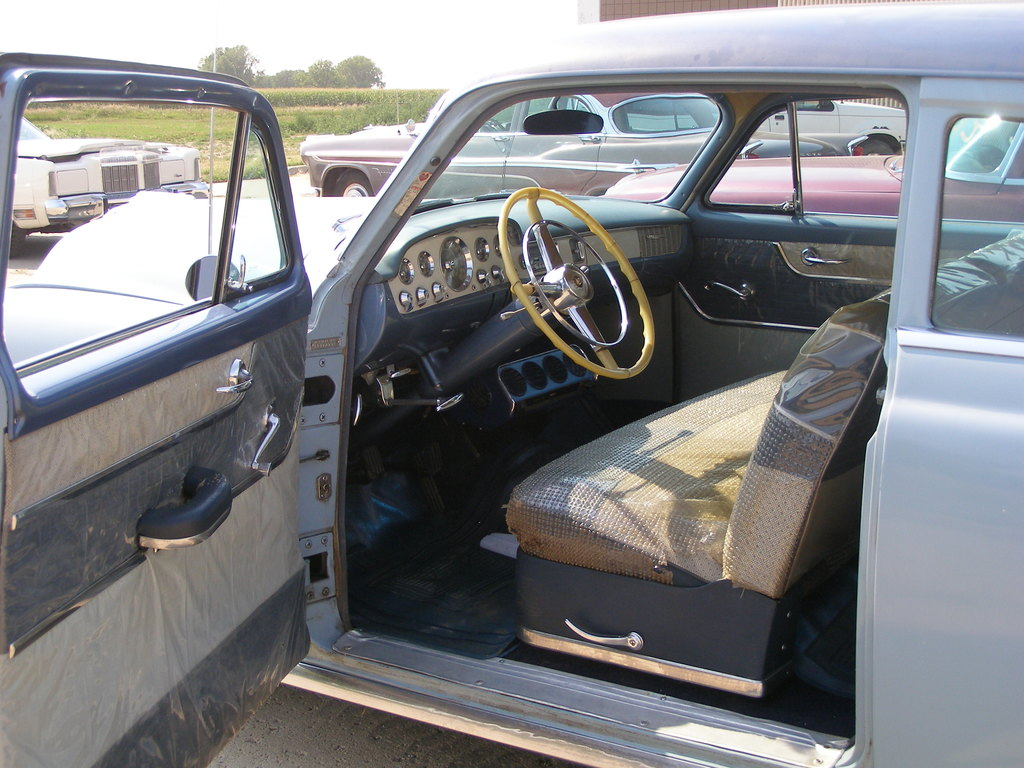Car: (0, 3, 1023, 767), (284, 82, 897, 202), (579, 103, 1022, 236), (0, 95, 226, 270), (746, 82, 945, 153)
